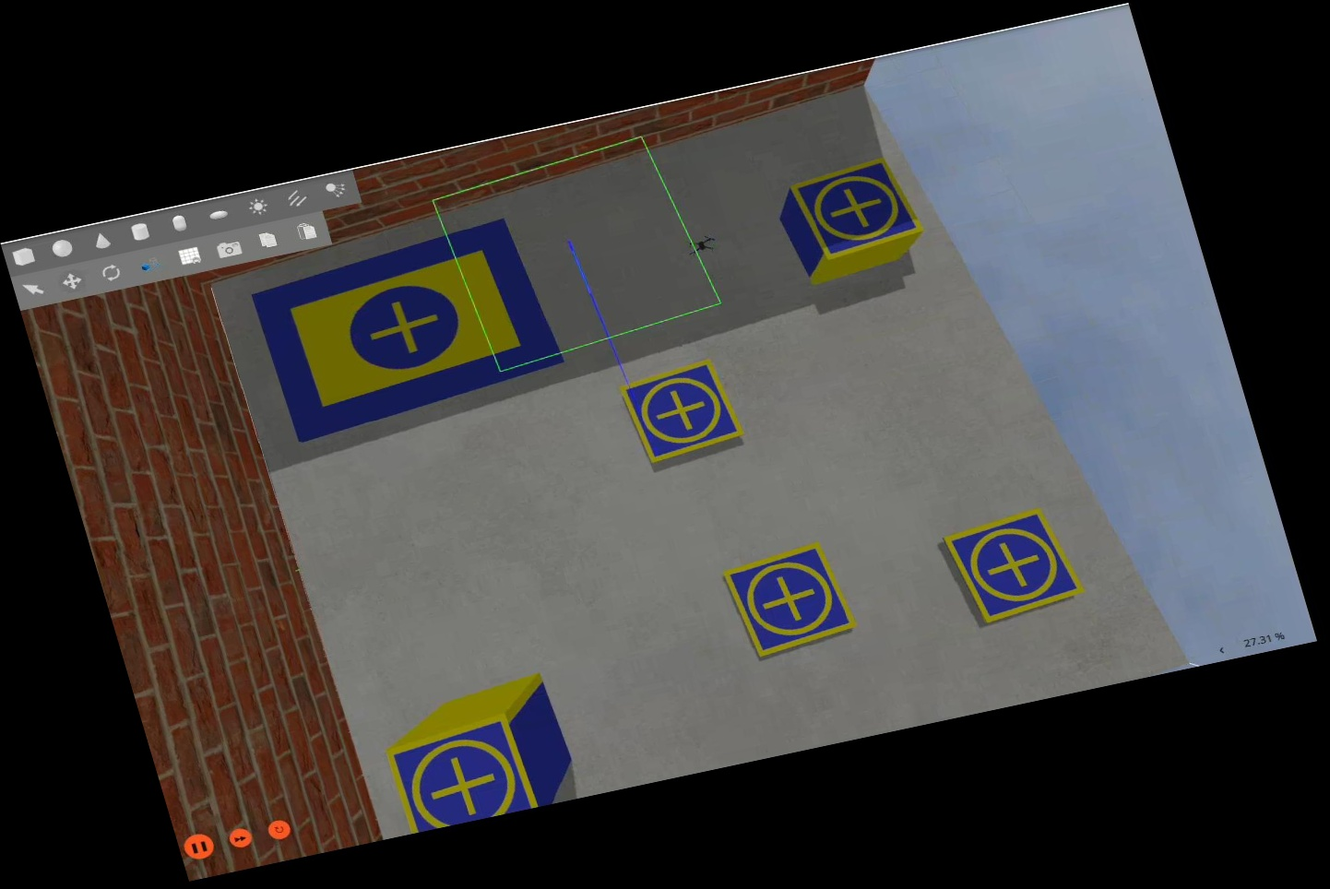large_base: (245, 211, 576, 446)
small_base: (379, 706, 544, 836), (939, 503, 1092, 632), (714, 537, 864, 664), (785, 155, 927, 265), (614, 356, 749, 470)
